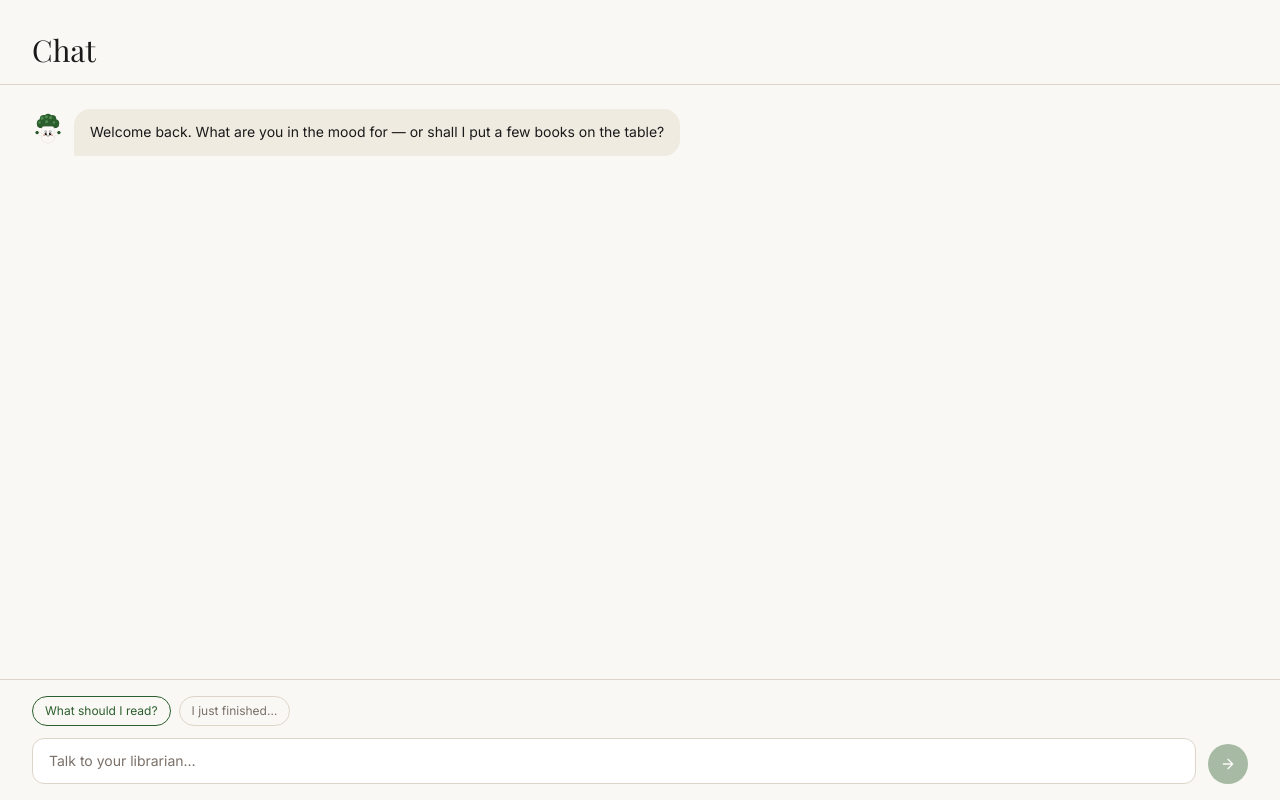
Test: Librarian (Chat) › only the latest slate is interactive
The image size is (1280, 800).
Type "one" into the text box with placeholder "Talk to your librarian…".
click(614, 761); type("one")  # box [32,738,1196,784]
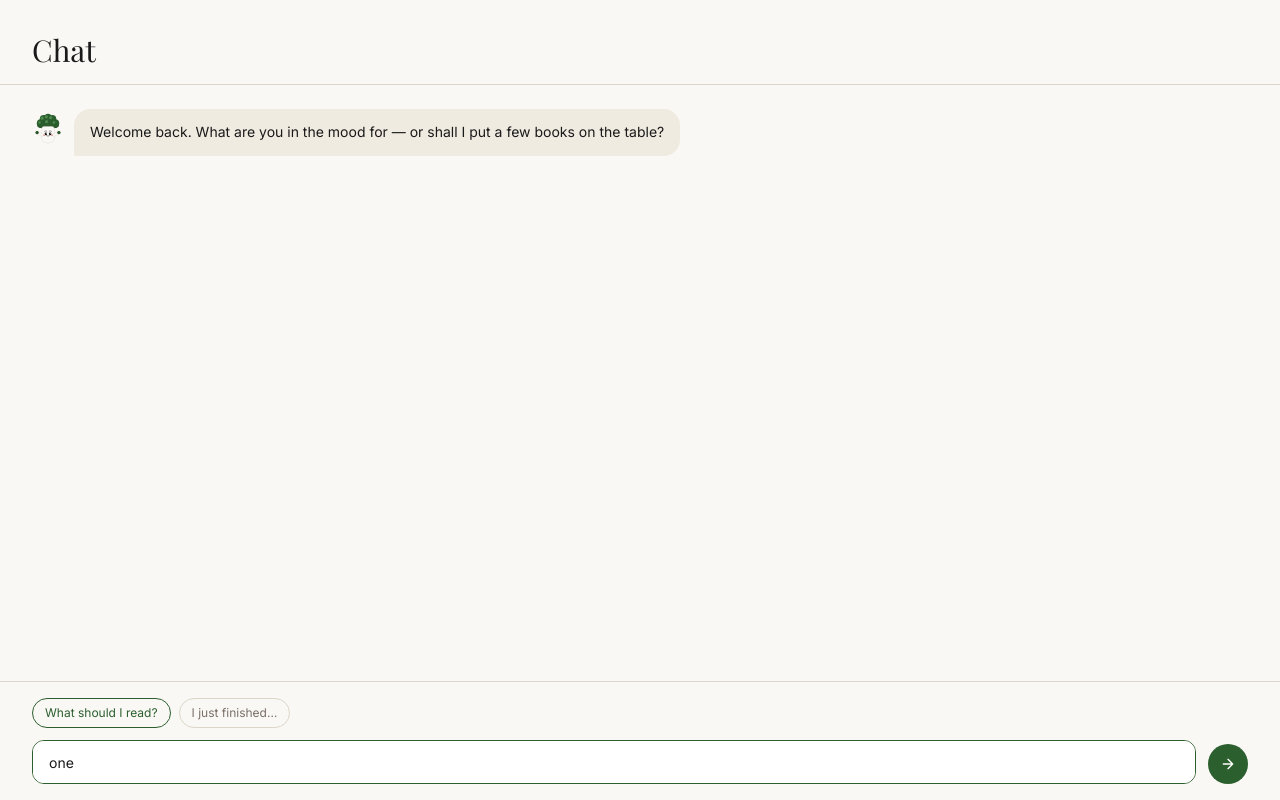
Click the button named "Send".
click(1228, 764)  # box [1208,744,1248,784]
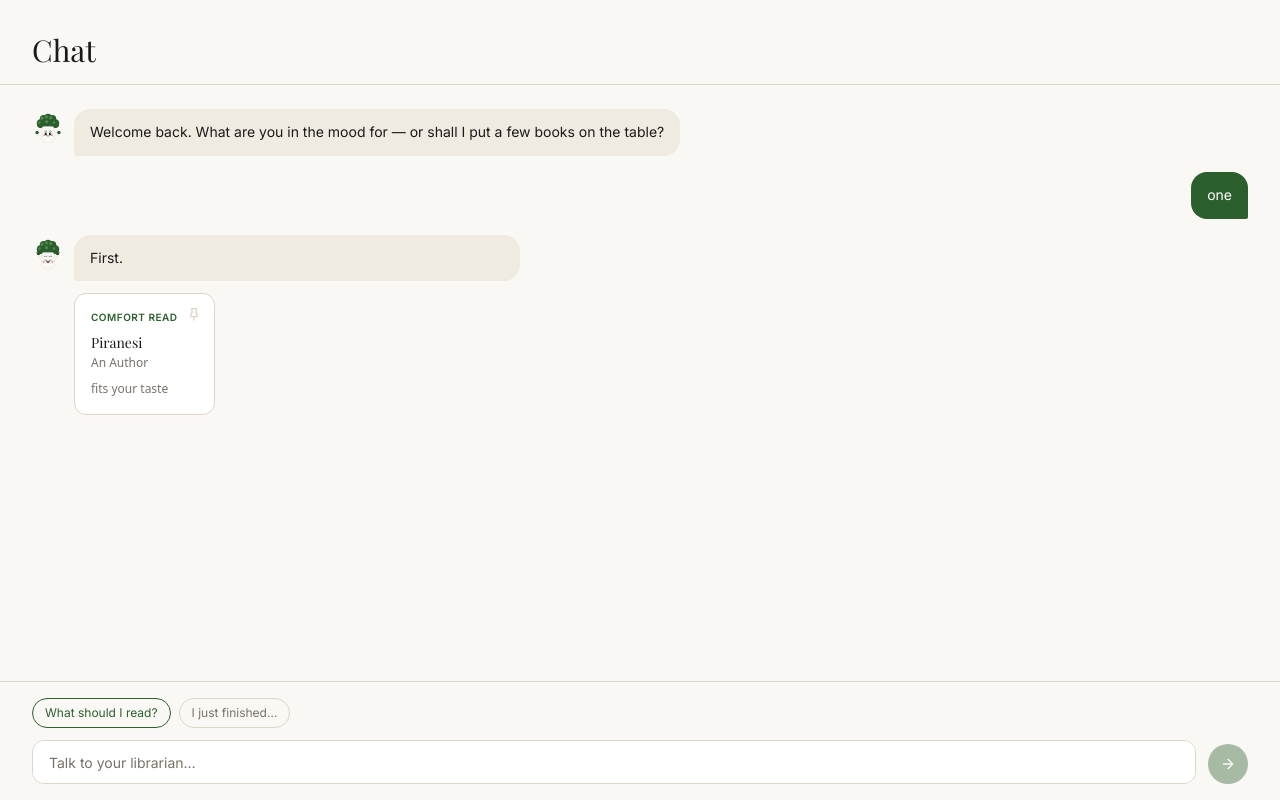
Expected: the text "Piranesi" is shown, [91,333,142,352]
Type "two" into the text box with placeholder "Talk to your librarian…".
click(614, 762); type("two")  # box [32,740,1196,784]
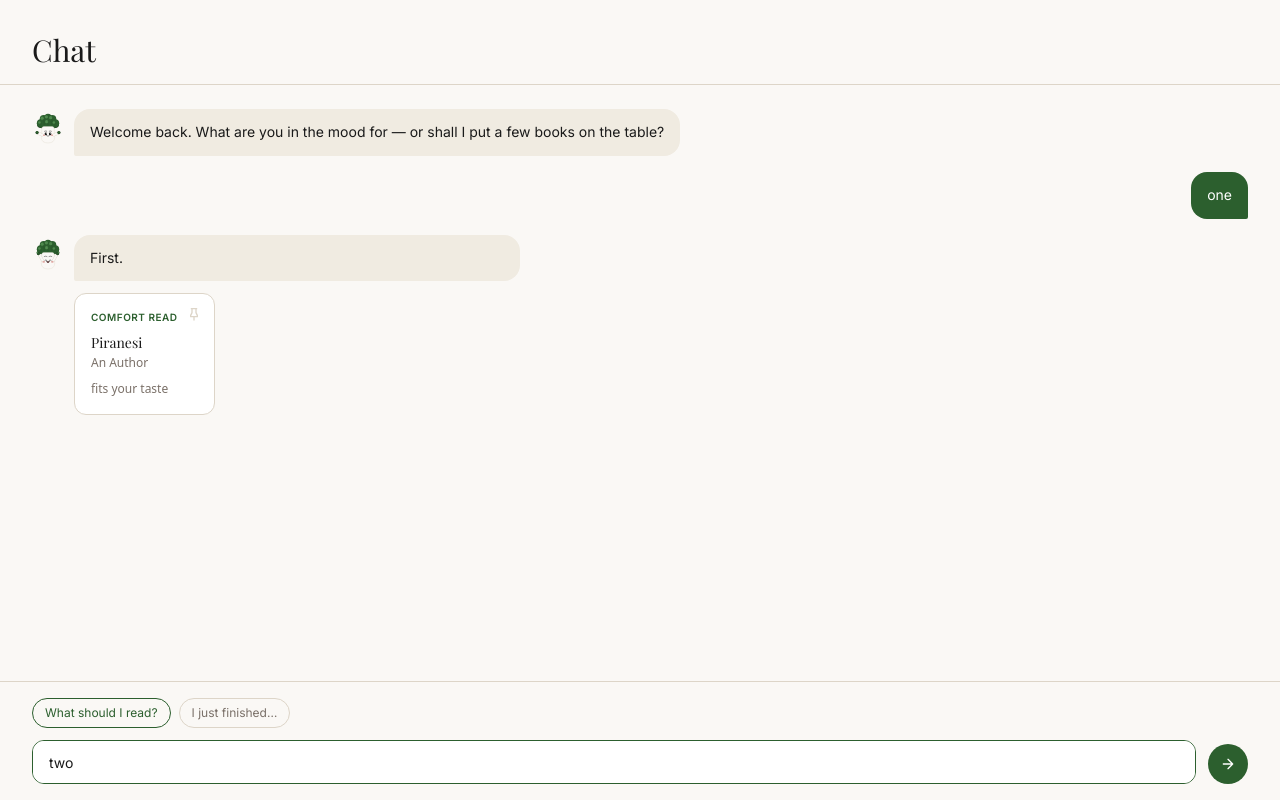
Click the button named "Send".
click(1228, 764)  # box [1208,744,1248,784]
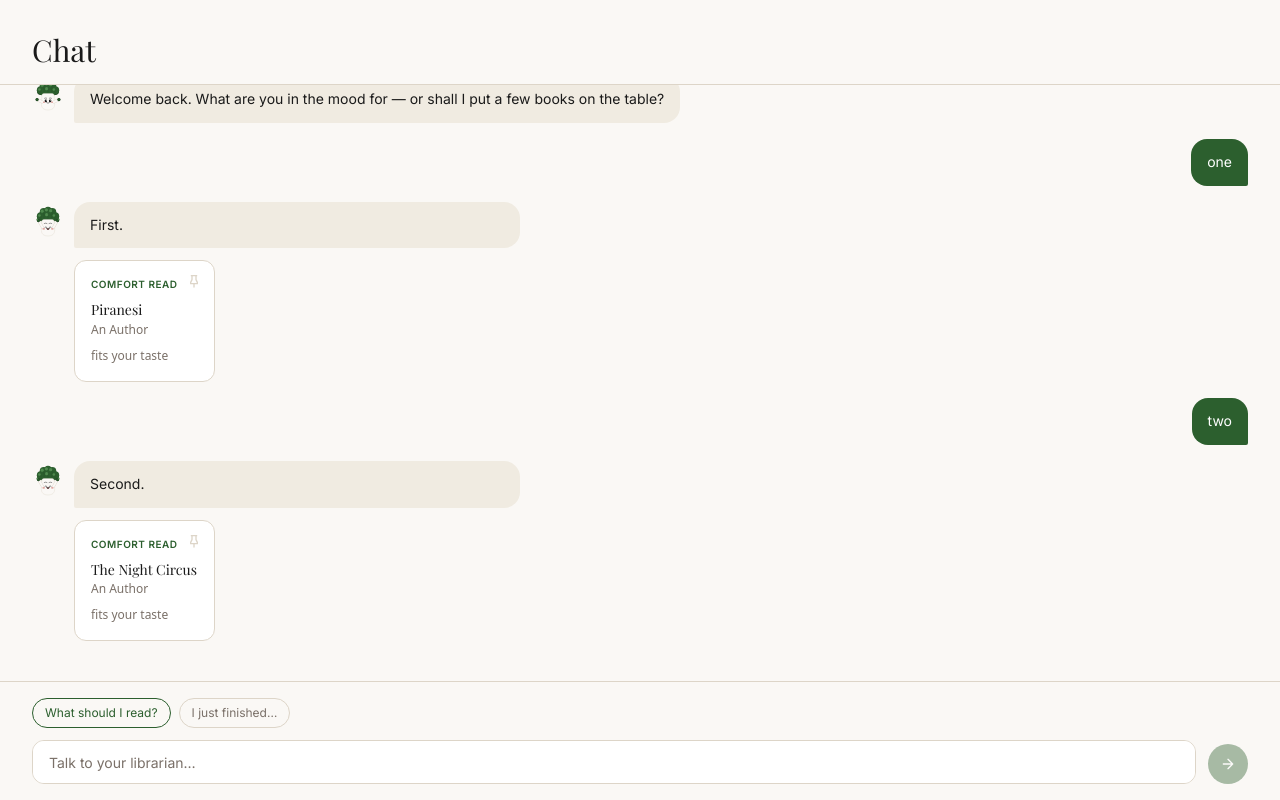
Expected: the text "The Night Circus" is shown, [91,560,198,579]
Expected: the button named "Pin Piranesi" is disabled, [186,273,202,289]
Expected: the button named "Pin The Night Circus" is enabled, [186,532,202,548]
